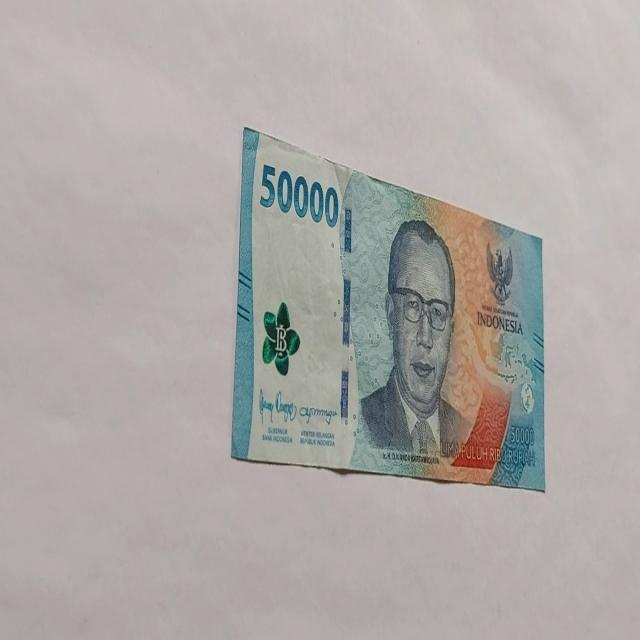lima puluh ribu rupiah: (230, 126, 546, 490), (350, 217, 474, 474)
